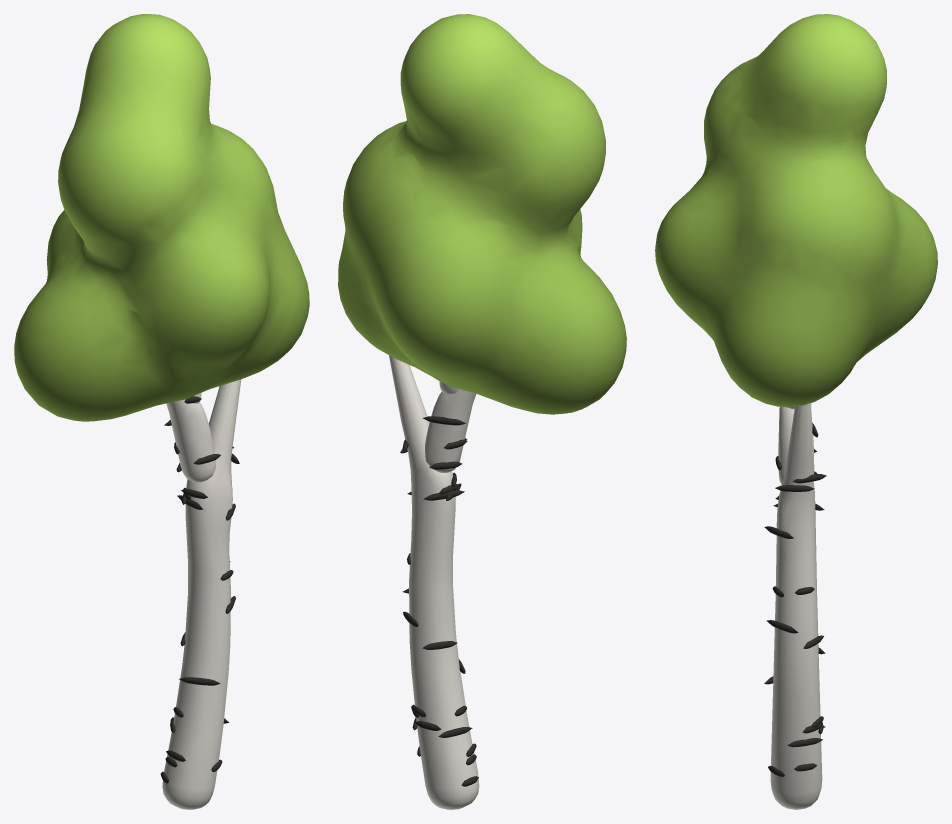
File: birch_tree.glb
The picture shows the model from 3 angles, left to right: view 1: azimuth 30°, elevation 25°; view 2: azimuth 150°, elevation 25°; view 3: azimuth 270°, elevation 25°; orthographic projection. The views are drawn at different scales.
Parts seen in each view (by area): view 1: canopy, trunk; view 2: canopy, trunk; view 3: canopy, trunk.
Boxes of the visible parts, left/top/right/bottom form: canopy: left=14, top=14, right=309, bottom=421; trunk: left=160, top=379, right=241, bottom=809; canopy: left=338, top=14, right=626, bottom=414; trunk: left=389, top=355, right=479, bottom=809; canopy: left=655, top=14, right=937, bottom=407; trunk: left=764, top=403, right=826, bottom=809.
Bounding box in the file's own units: 3.6 × 9.97 × 3.3.
Materials: 3 (3 with a texture image).
